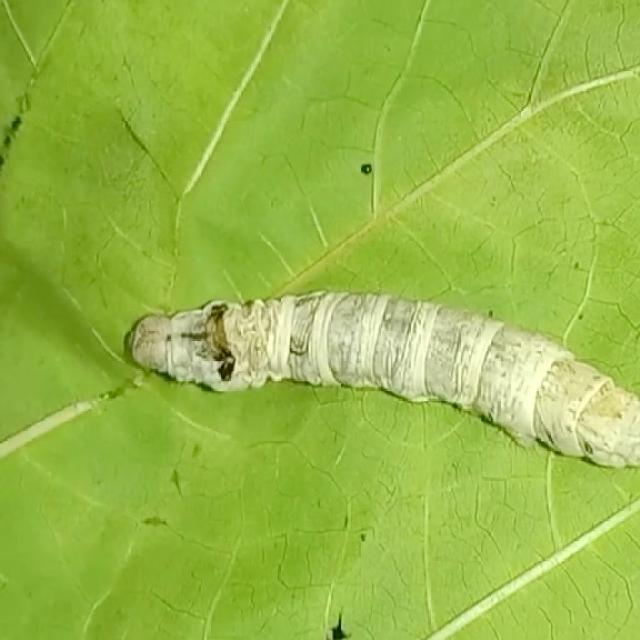Grasserie: (123, 274, 640, 501)
